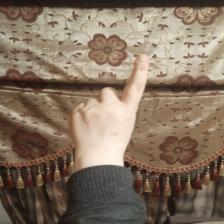one: (75, 52, 153, 152)
